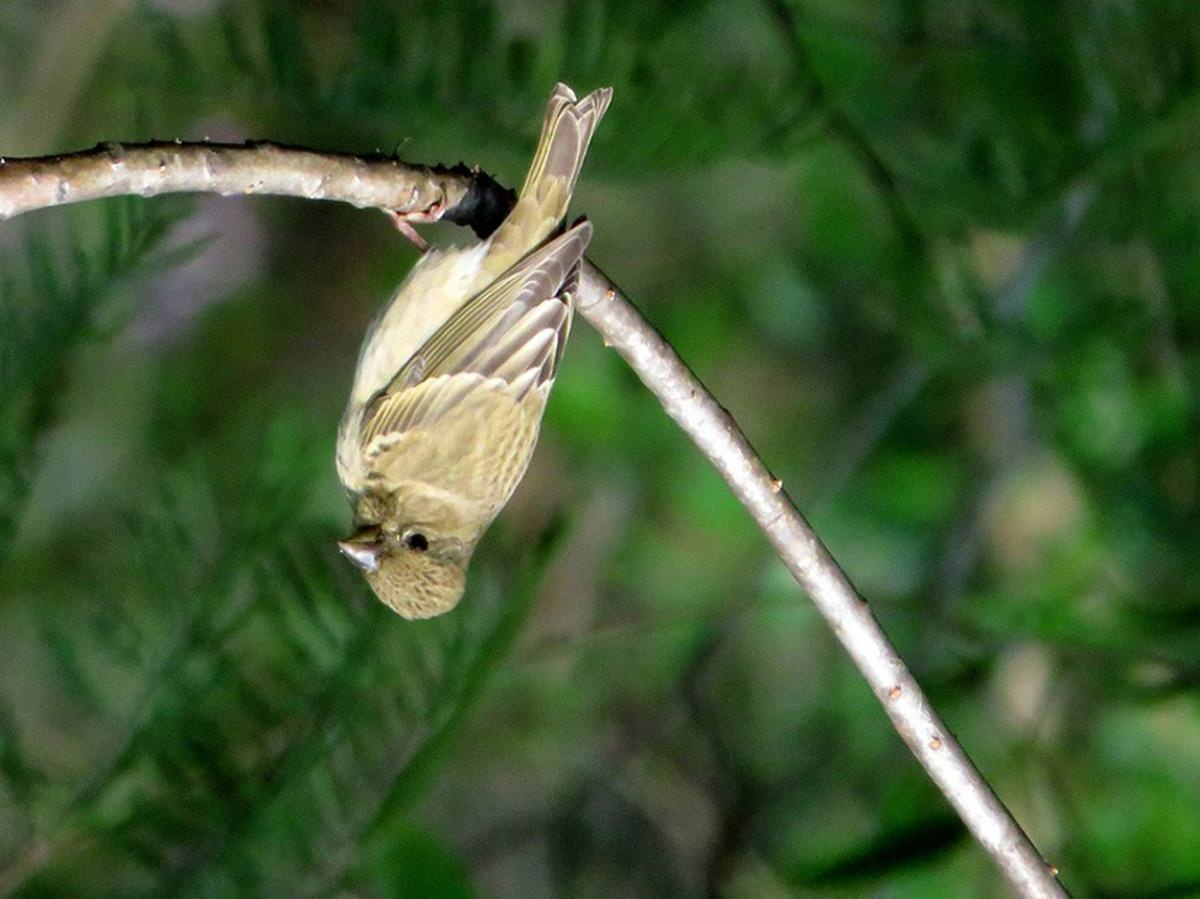rosefinch: (326, 97, 581, 660)
